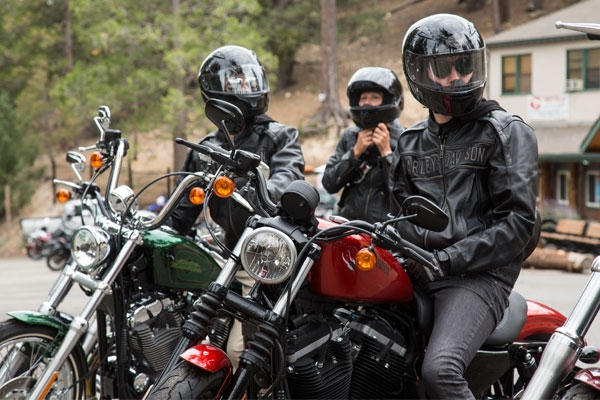helmet: (402, 11, 491, 115), (197, 43, 282, 112), (344, 64, 403, 125)
